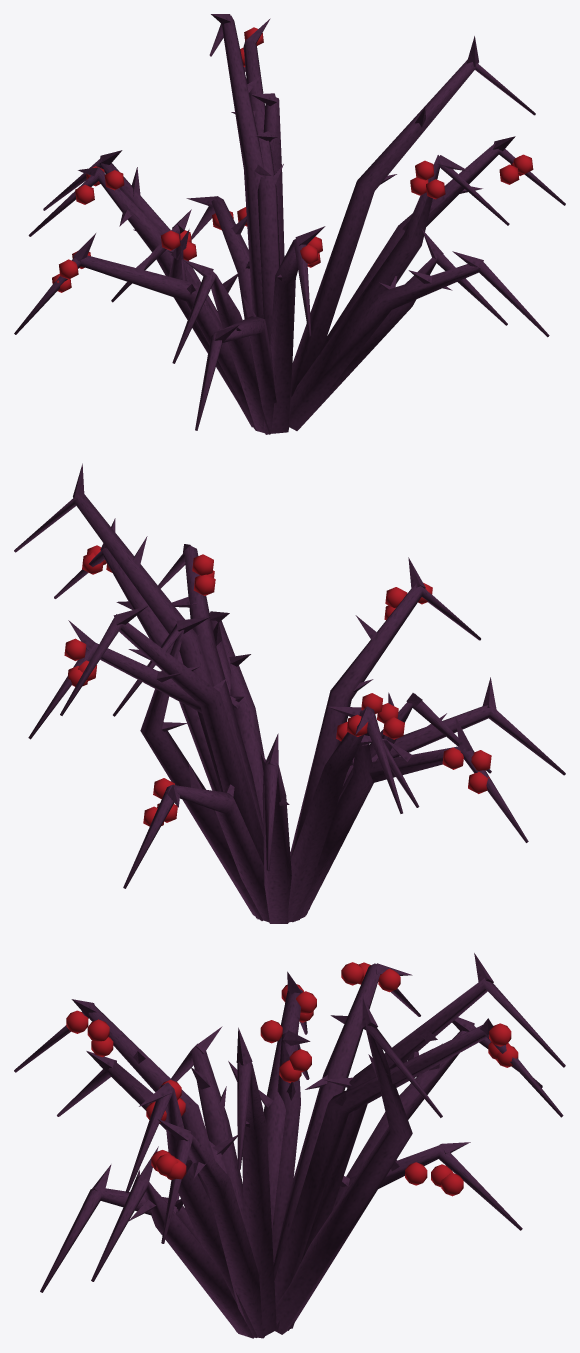
File: thorn_bush.glb
3 renders of one model, top to bottom at view 1: azimuth 30°, elevation 25°; view 2: azimuth 150°, elevation 25°; view 3: azimuth 270°, elevation 25°, orthographic. The views are drawn at different scales.
Parts seen in each view (by area): view 1: thorn_bush_stems, thorn_bush_berries; view 2: thorn_bush_stems, thorn_bush_berries; view 3: thorn_bush_stems, thorn_bush_berries.
Part boxes in pixels (box(x1,y1,x2,y2)): thorn_bush_stems: box(14, 14, 565, 434); thorn_bush_berries: box(52, 27, 533, 292); thorn_bush_stems: box(14, 463, 565, 923); thorn_bush_berries: box(64, 545, 491, 826); thorn_bush_stems: box(14, 953, 565, 1338); thorn_bush_berries: box(66, 962, 518, 1196).
Size of what is drawn, in the model's own units: 1.9 by 1.3 by 1.6.
2 materials, 2 textured.
